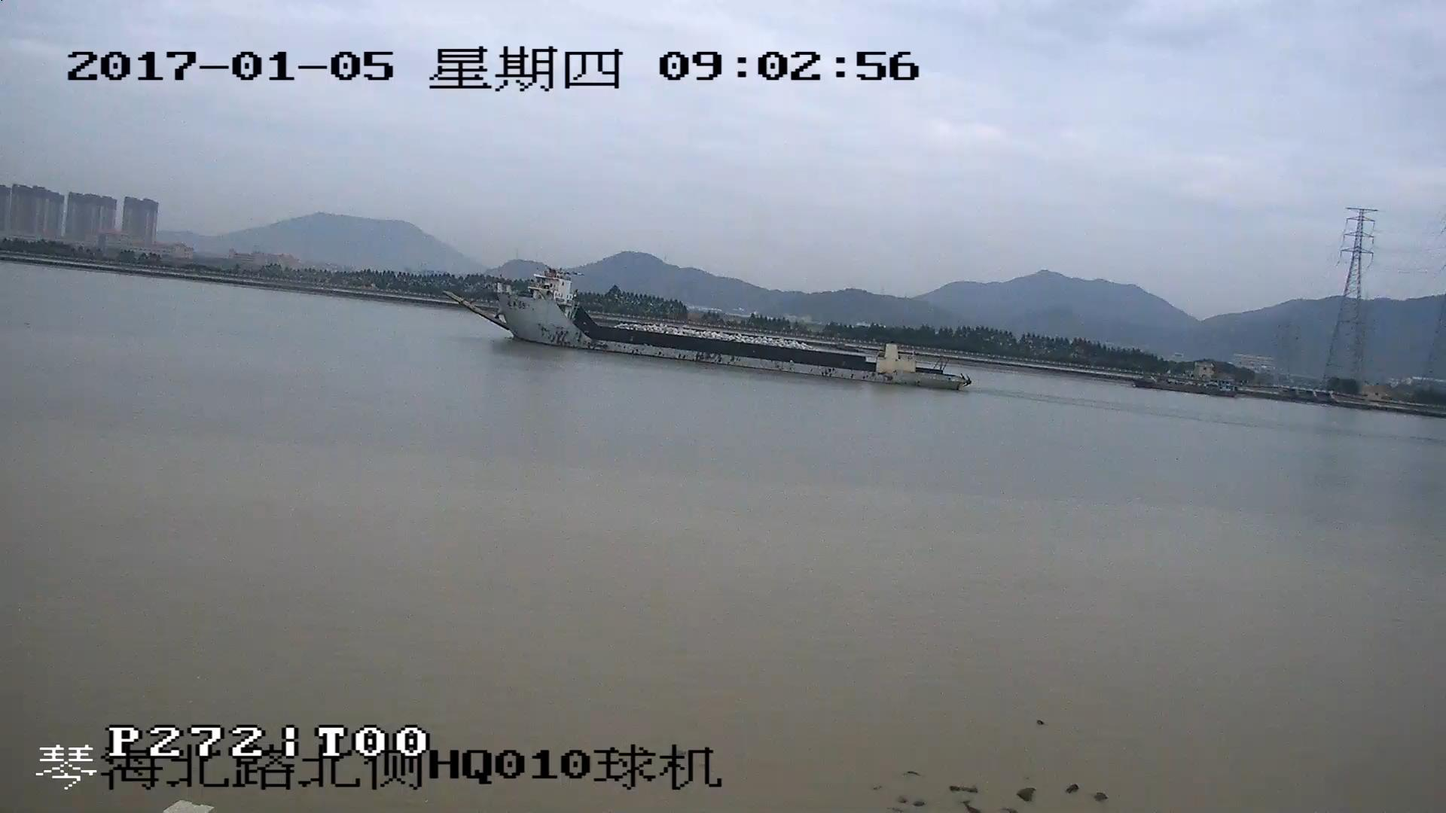bulk cargo carrier: (447, 273, 974, 394)
